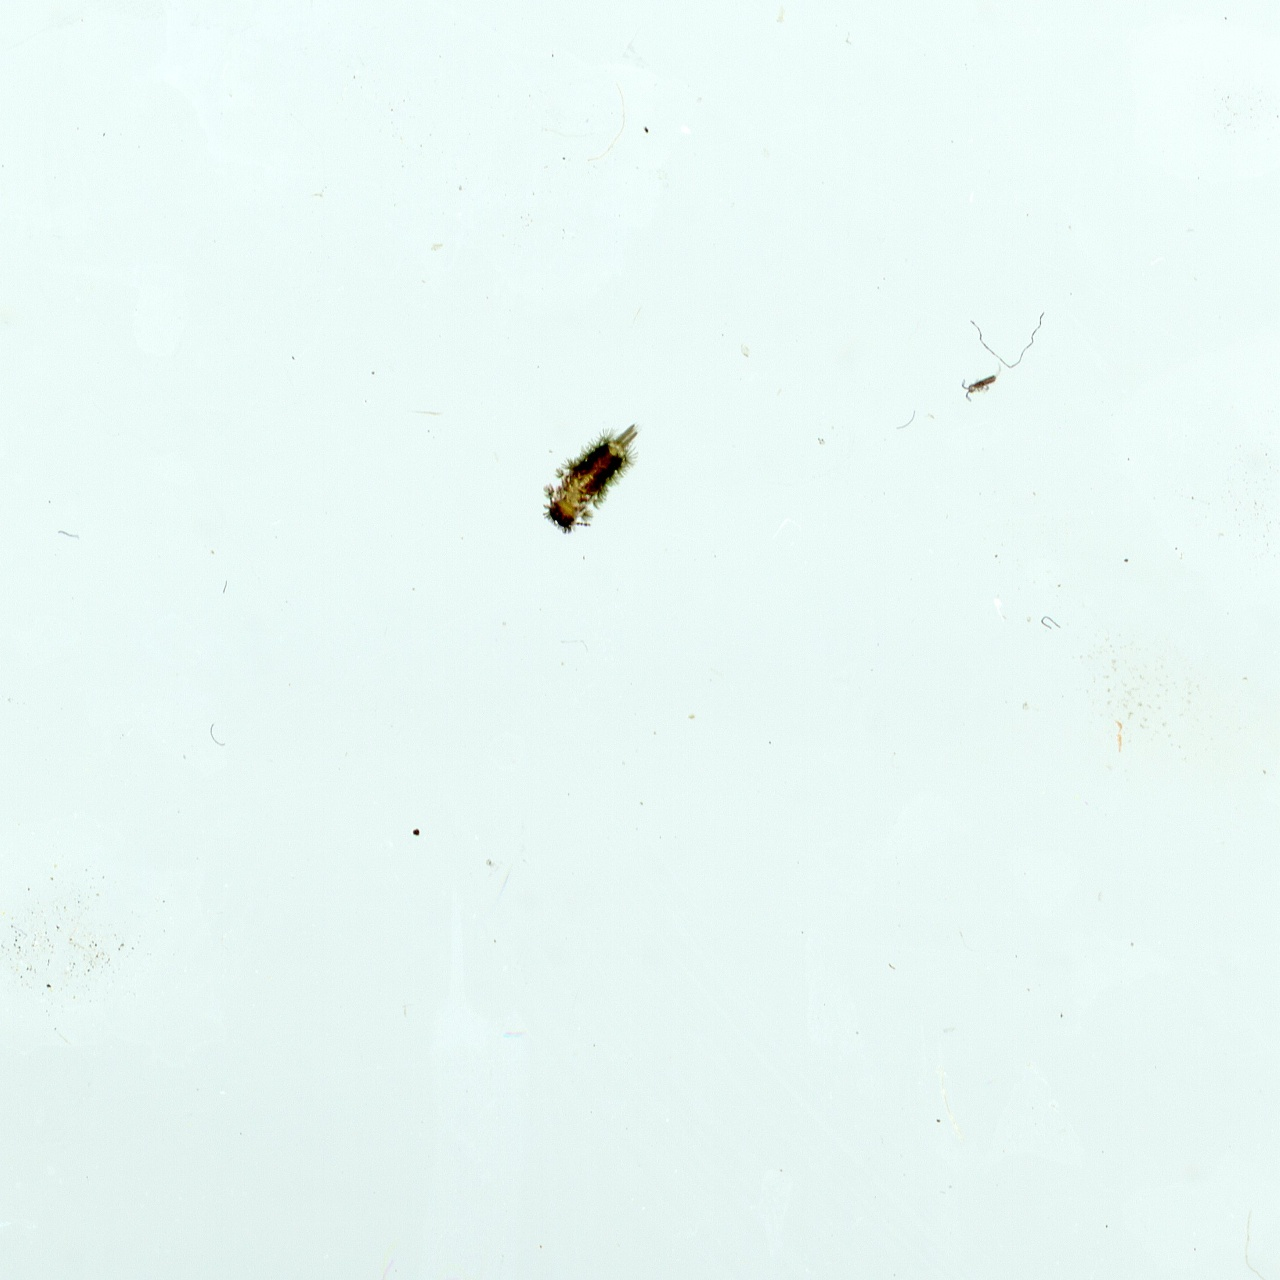arthropod: (544, 418, 638, 542), (955, 368, 1001, 401)
